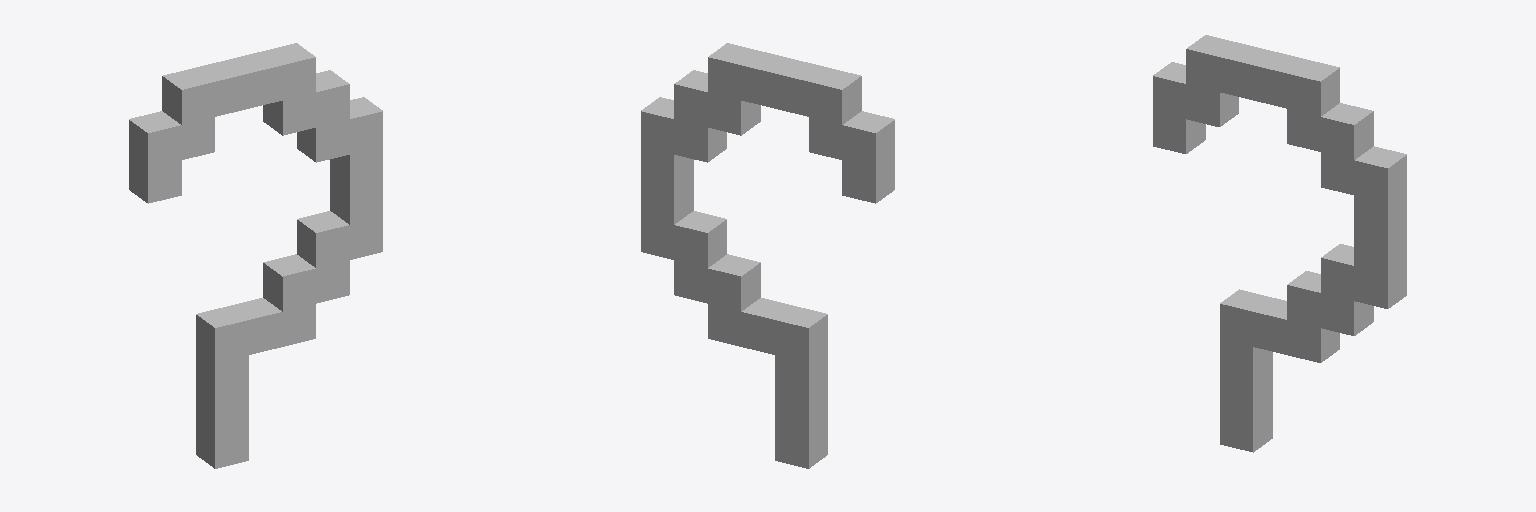
File: Tools Sickle.obj
3 views of the same model, side by side, from view 1: azimuth 30°, elevation 25°; view 2: azimuth 150°, elevation 25°; view 3: azimuth 330°, elevation 25° (orthographic).
Parts seen in each view (by area): view 1: object 1; view 2: object 1; view 3: object 1.
Boxes of the visible parts, <box> form: object 1: <box>129,43,382,468</box>; object 1: <box>641,43,894,468</box>; object 1: <box>1153,35,1406,452</box>.
Size of the model in its own units: 0.7 by 1.1 by 0.1.